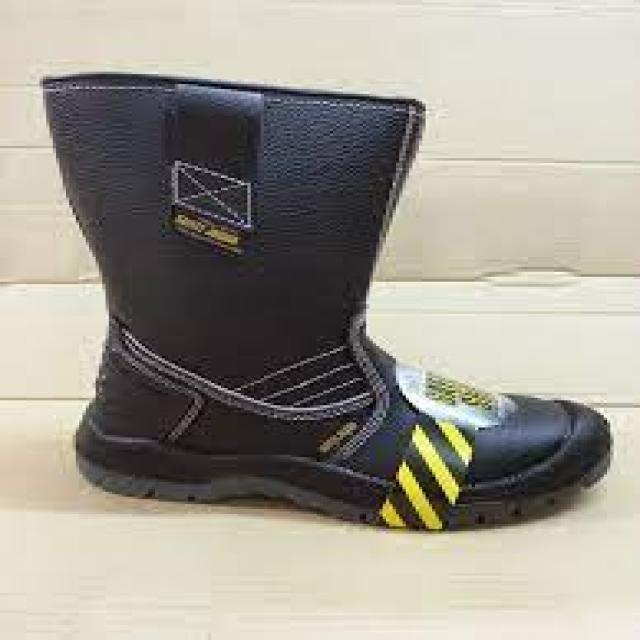shoes: (39, 82, 614, 529)
